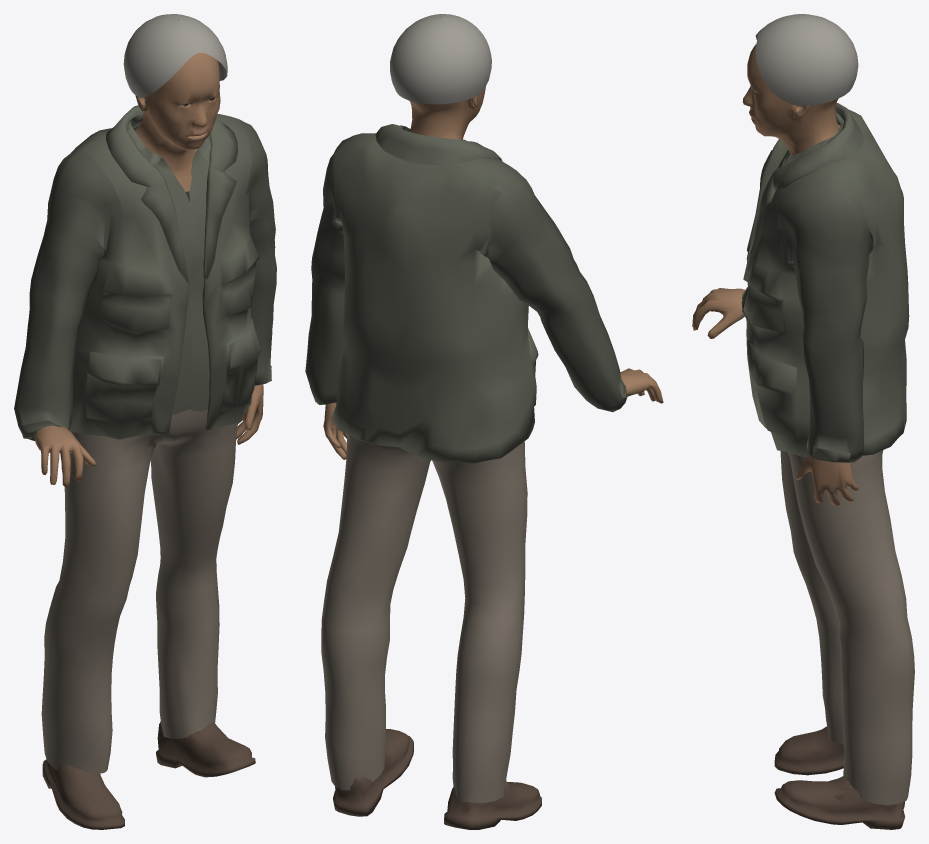
File: participant-06-middle.glb
The picture shows the model from 3 angles, left to right: view 1: azimuth 30°, elevation 25°; view 2: azimuth 150°, elevation 25°; view 3: azimuth 270°, elevation 25°; orthographic projection.
Visible parts, largest first — view 1: Participant anatomy and ordinary clothes; view 2: Participant anatomy and ordinary clothes; view 3: Participant anatomy and ordinary clothes.
Part boxes in pixels (x1,y1,x2,y2): Participant anatomy and ordinary clothes: (14,14,276,829); Participant anatomy and ordinary clothes: (305,14,663,829); Participant anatomy and ordinary clothes: (692,14,914,829).
Size of the model in its own units: 0.635 by 1.64 by 0.4229.
